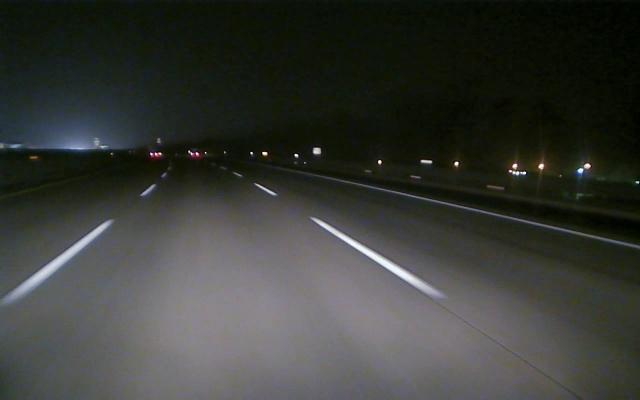lane: (307, 174, 639, 251), (257, 183, 450, 301), (1, 184, 156, 306)
